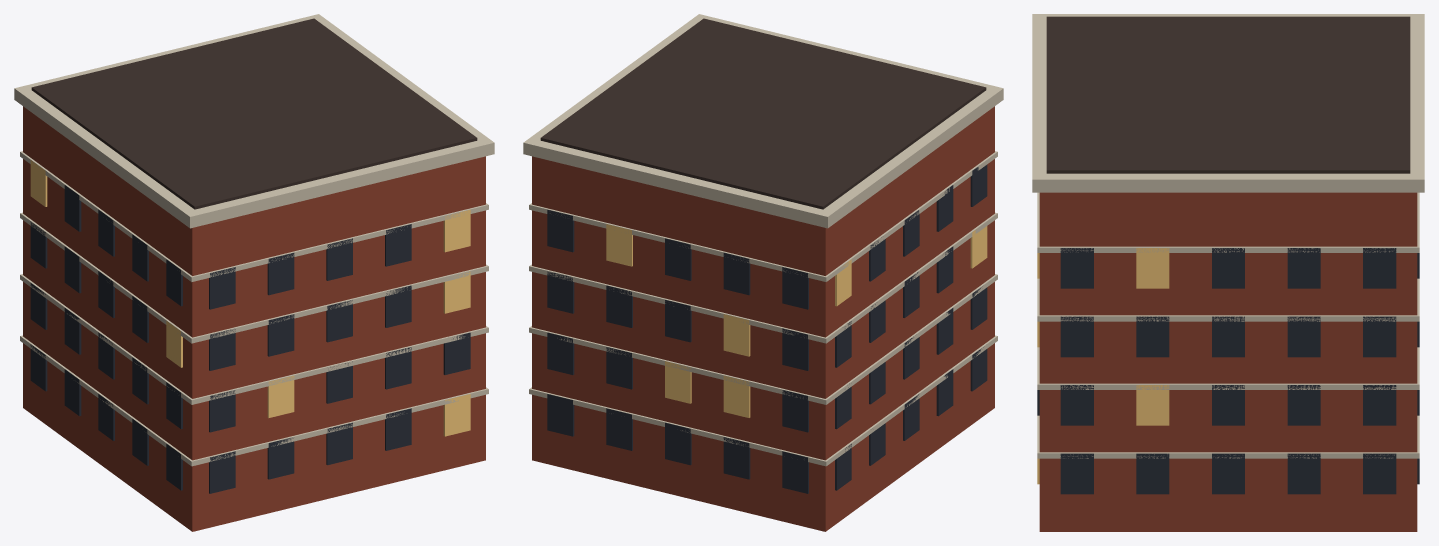
File: building_brick.obj
3 renders of one model, left to right at view 1: azimuth 30°, elevation 25°; view 2: azimuth 150°, elevation 25°; view 3: azimuth 270°, elevation 25°, orthographic. The views are drawn at different scales.
Visible parts, largest first — view 1: building_brick; view 2: building_brick; view 3: building_brick.
Boxes of the visible parts, x1=… form: building_brick: x1=14, y1=14, x2=494, y2=531; building_brick: x1=523, y1=14, x2=1003, y2=531; building_brick: x1=1032, y1=14, x2=1424, y2=531.
Size of the model in its own units: 16.6 by 16.75 by 16.6.
